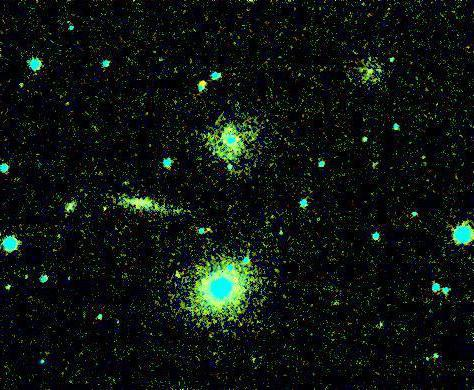star: (188, 68, 218, 98)
